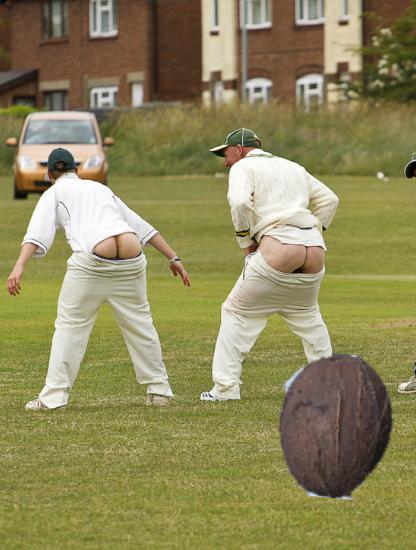Cocos: (264, 354, 409, 499)
